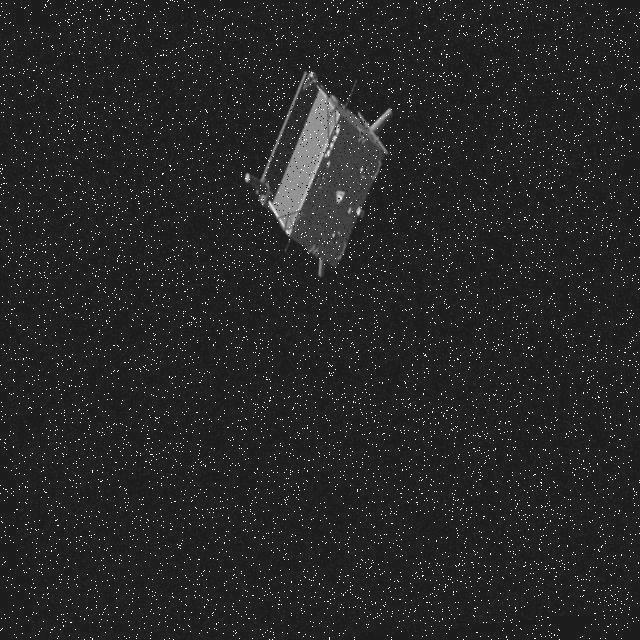medium_debris: (242, 72, 390, 264)
